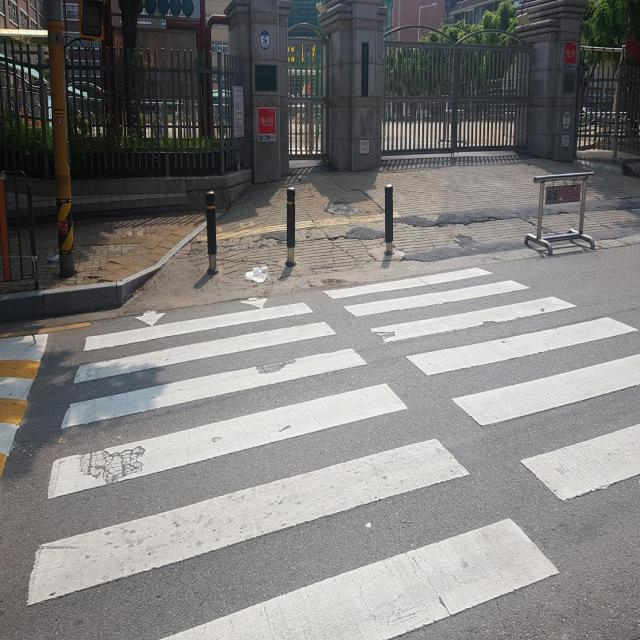횡단보도: (23, 257, 640, 640)
